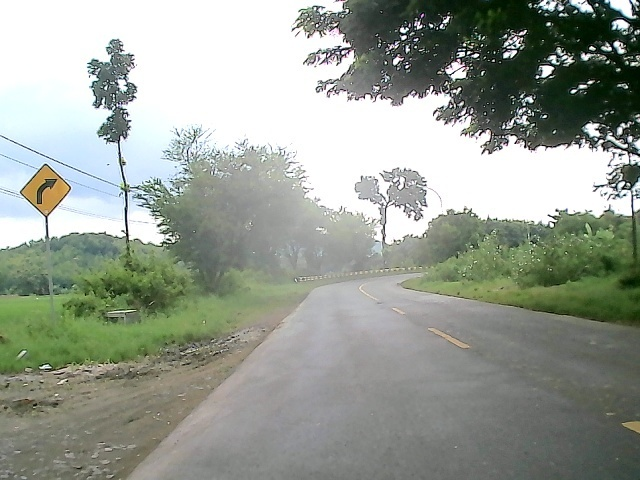Tikungan ke kanan: (18, 161, 73, 220)
